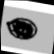correct: (2, 14, 40, 45)
